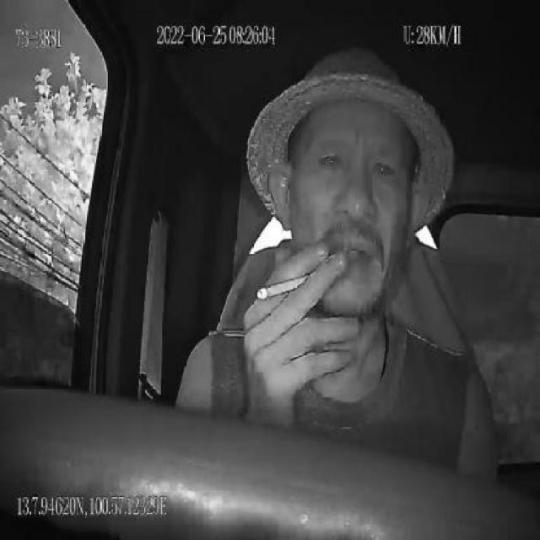smoking: (257, 270, 312, 302)
